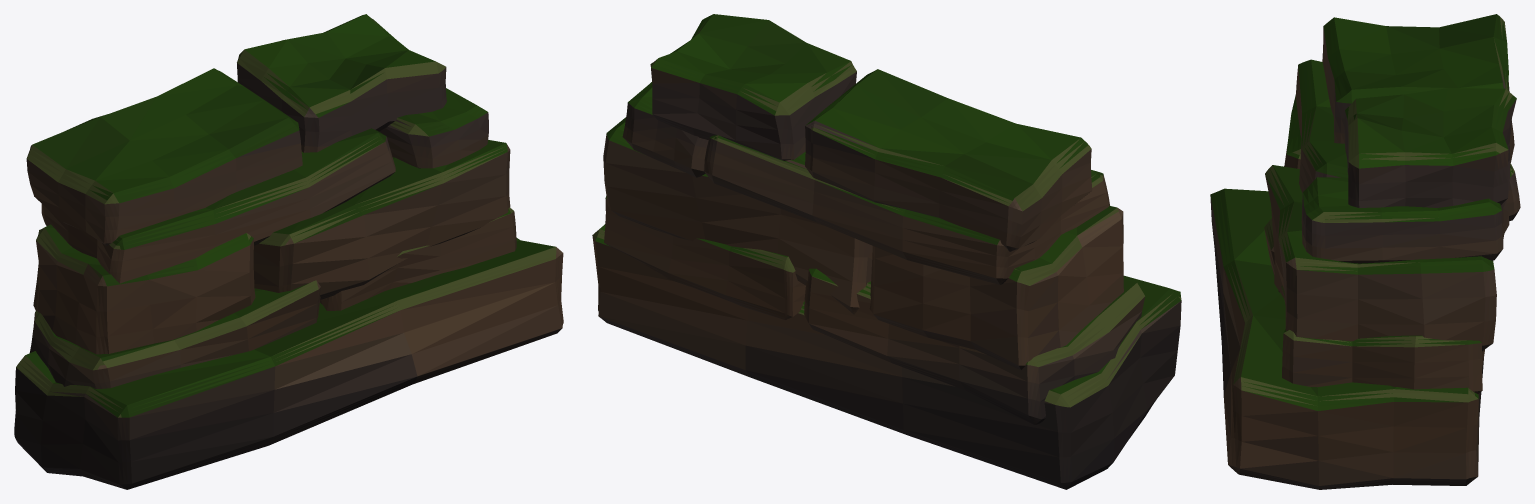
File: cliff_strata_low.glb
3 views of the same model, side by side, from view 1: azimuth 30°, elevation 25°; view 2: azimuth 150°, elevation 25°; view 3: azimuth 270°, elevation 25° (orthographic). The views are drawn at different scales.
Parts seen in each view (by area): view 1: cliff_strata_low; view 2: cliff_strata_low; view 3: cliff_strata_low.
Part boxes in pixels (x1=…): cliff_strata_low: x1=14, y1=14, x2=563, y2=489; cliff_strata_low: x1=592, y1=14, x2=1181, y2=489; cliff_strata_low: x1=1210, y1=14, x2=1520, y2=489.
Size of the model in its own units: 6.85 by 4.73 by 3.52.
